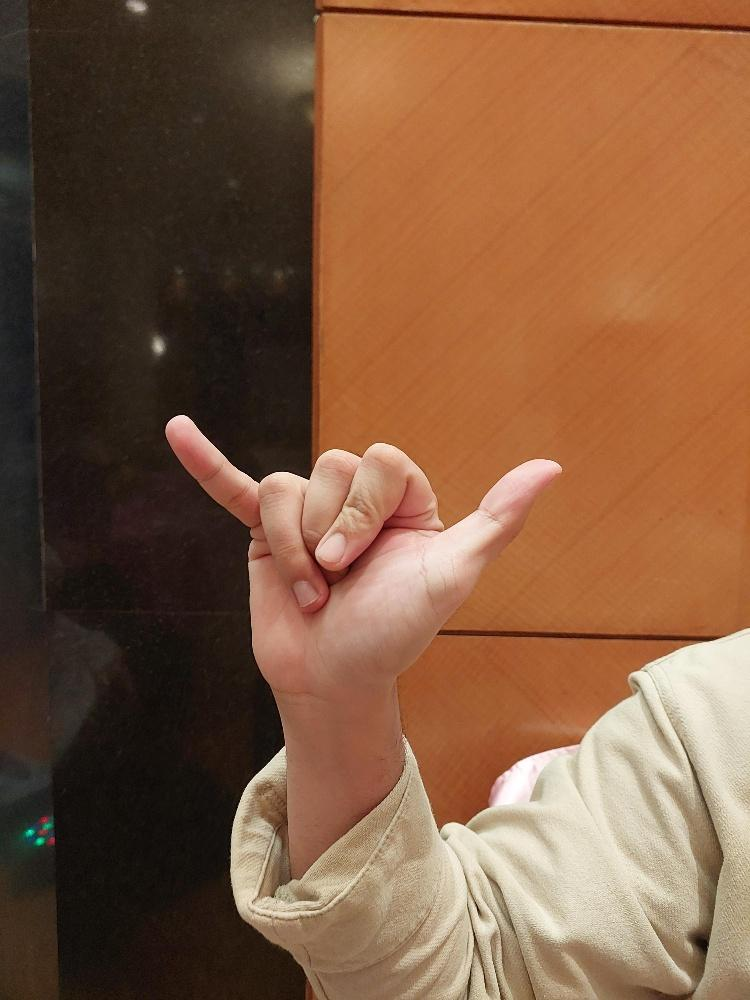y: (163, 406, 568, 700)
